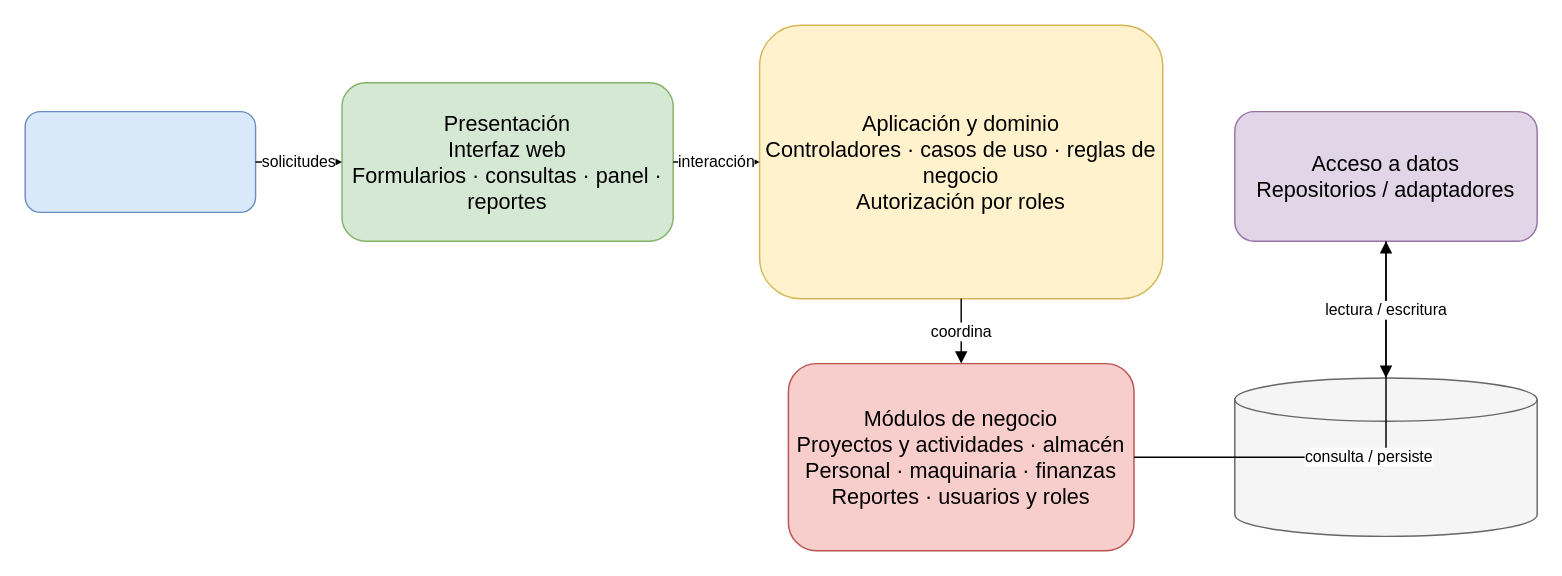
This 1562x576 diagram has some shape labels left out. Each missing label, with the centre of its shape:
"Actores internos autorizados" goes at point (140, 161).
"Persistencia centralizada MySQL (tecnología prevista)" goes at point (1385, 456).
